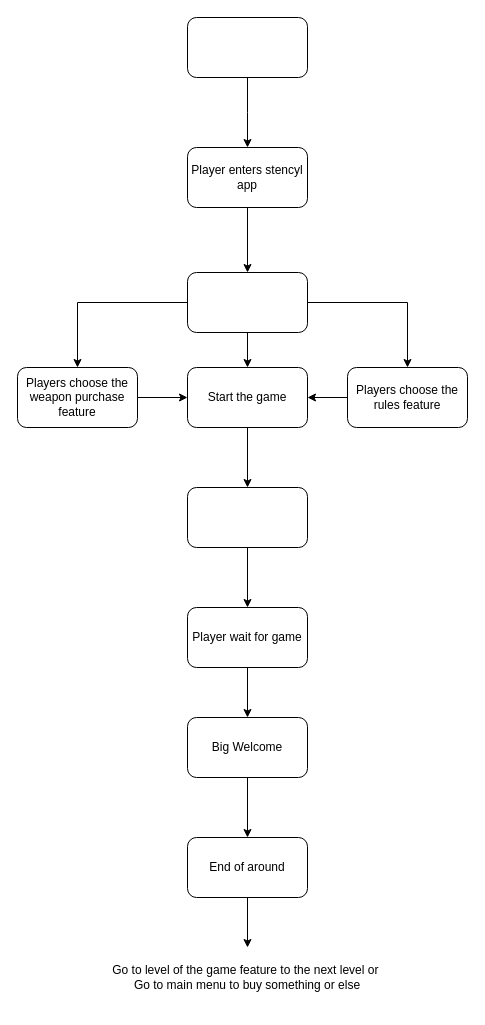
Image size: 485x1025. Some labels were removed from this diagram. Here are the shapes that lost their labels. From the top down, the centre of each, then its label:
At (x=247, y=47): "wheel of fortune launch page".
At (x=247, y=302): "Welcome player".
At (x=247, y=517): "Player chooses the level of the game".
